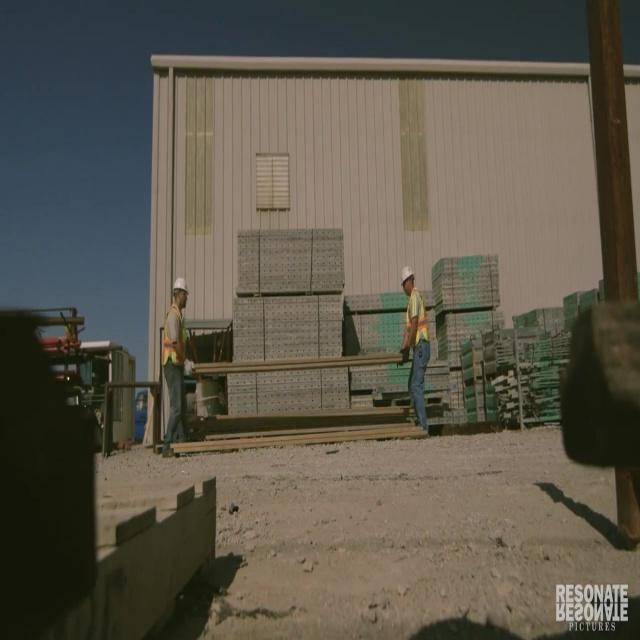helmet: (399, 353, 416, 380), (171, 367, 190, 388)
vest: (160, 409, 184, 488), (406, 386, 429, 466)
